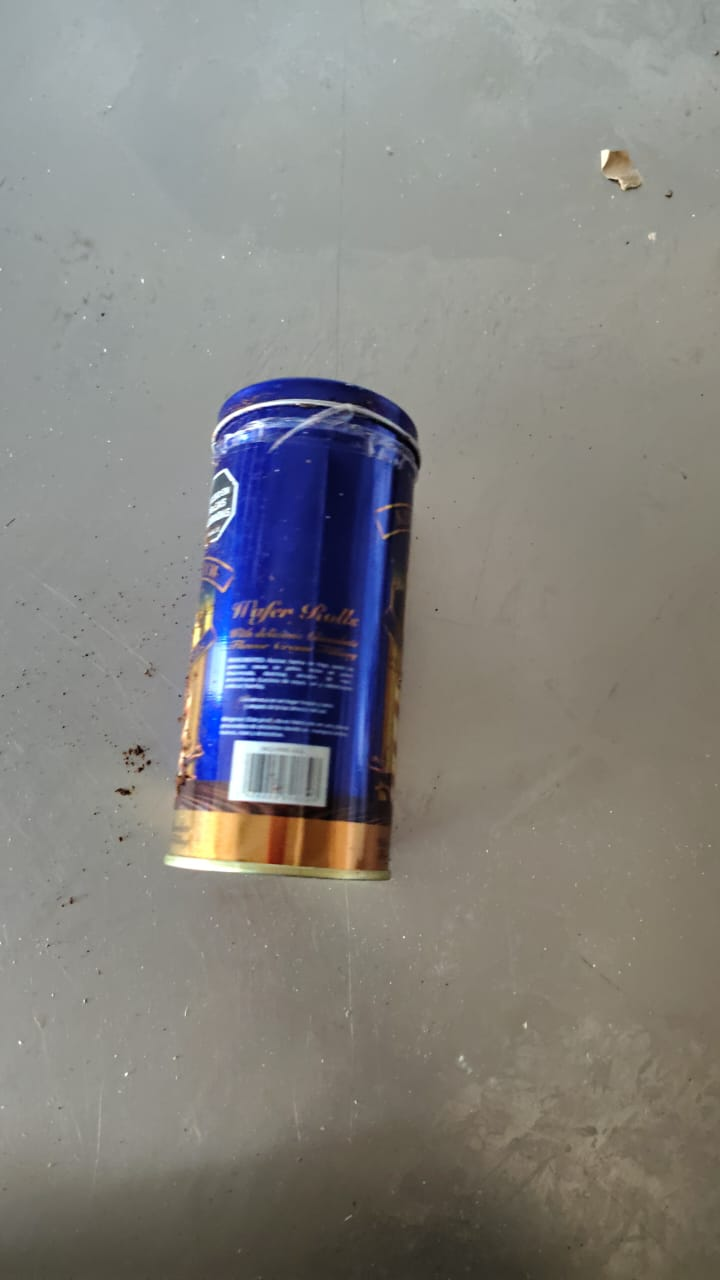Metal: (164, 378, 423, 880)
